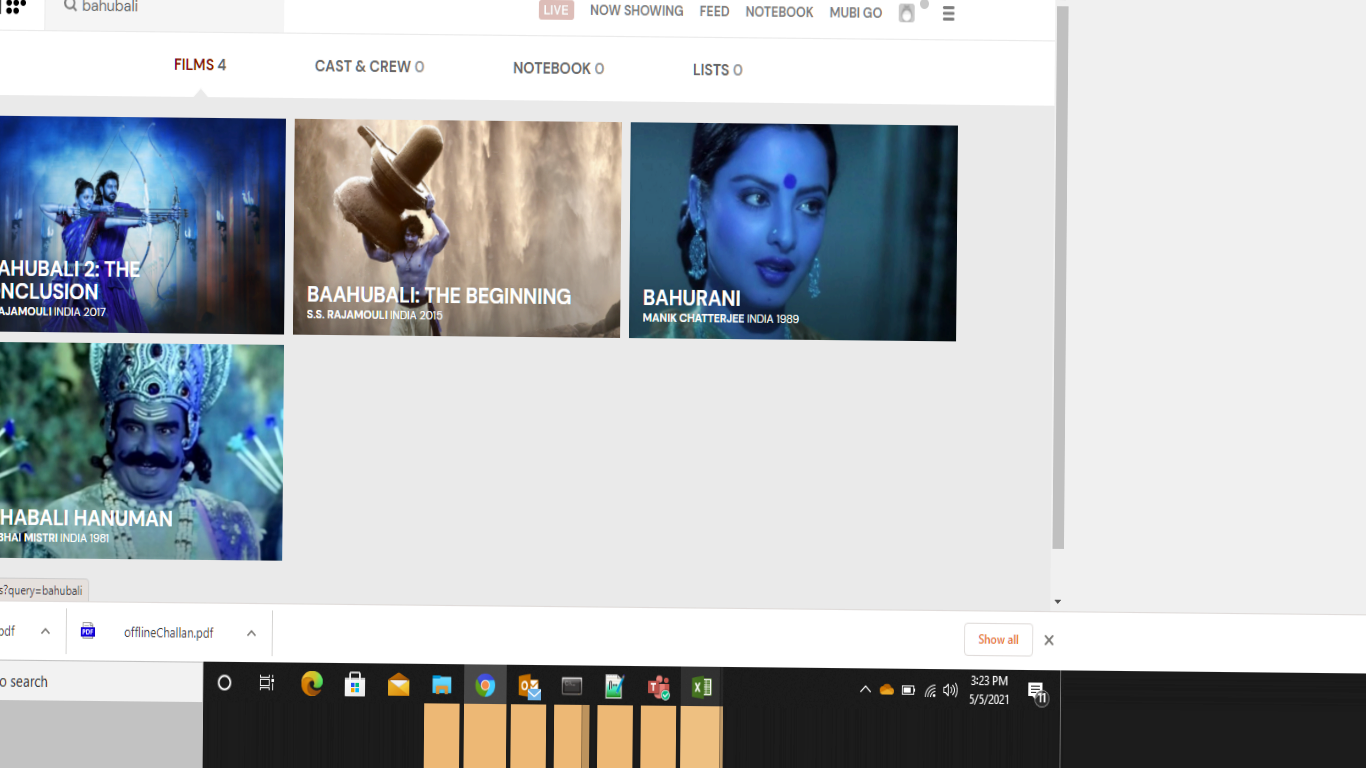profileicon: (896, 1, 927, 26)
searchicon: (51, 1, 77, 19)
searchtextbox: (44, 1, 281, 34)
